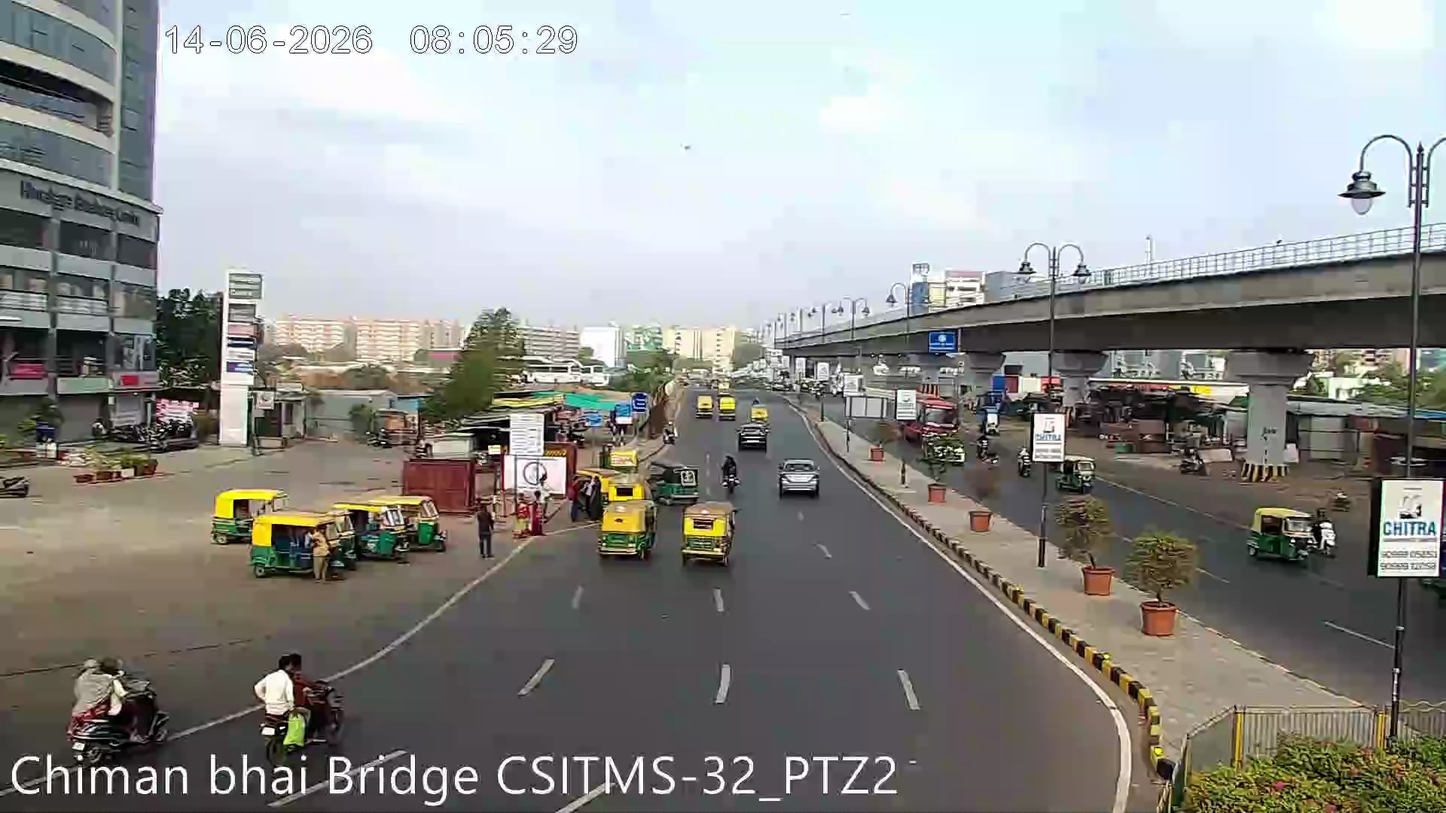auto_rickshaw: (334, 490, 448, 560), (245, 504, 348, 579), (208, 482, 288, 544), (1246, 501, 1322, 564), (680, 500, 736, 564), (598, 497, 656, 557), (1053, 450, 1098, 492), (694, 389, 728, 419), (703, 390, 737, 418)
car: (776, 457, 822, 497), (735, 420, 769, 450)
pedestrian: (475, 507, 496, 561), (895, 455, 911, 487)
two_wheeler: (60, 646, 179, 760), (248, 646, 354, 751), (720, 450, 742, 492), (1015, 443, 1033, 480)
